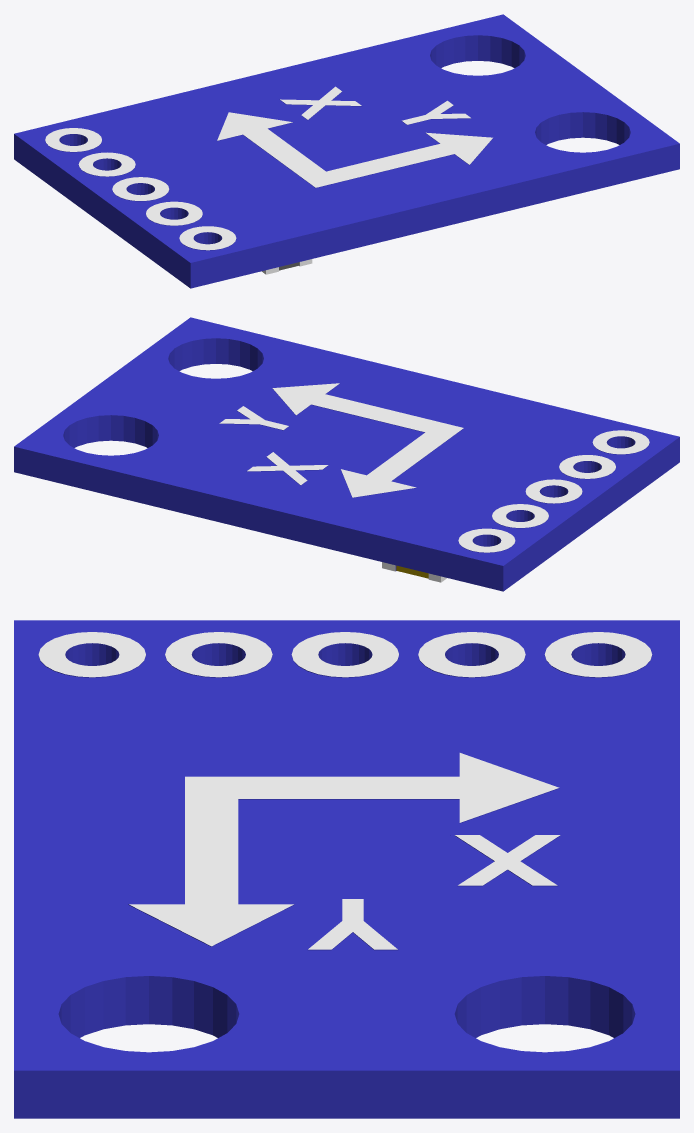
The model's file is model_gy273-otwTCjpD.glb.
3 renders of one model, top to bottom at view 1: azimuth 30°, elevation 25°; view 2: azimuth 150°, elevation 25°; view 3: azimuth 270°, elevation 25°, orthographic. The views are drawn at different scales.
Bounding box in the file's own units: 16 × 1.62 × 10.
